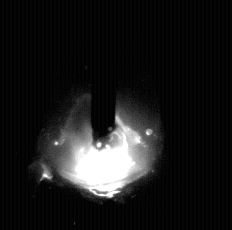arame: (91, 0, 117, 150)
poca: (36, 0, 164, 230)
